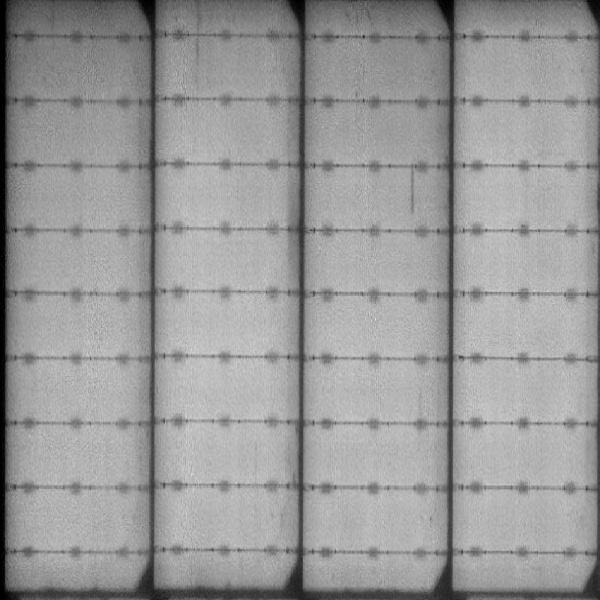scratch: (192, 5, 207, 74), (408, 161, 417, 216)
